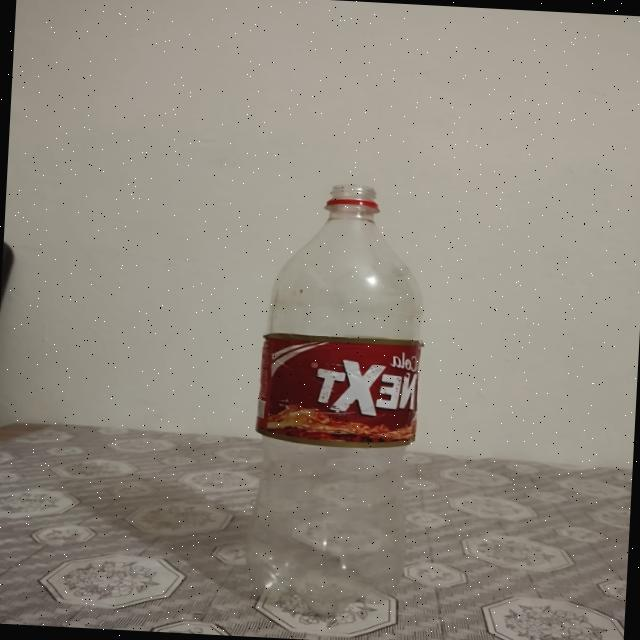bottle: (249, 174, 427, 600)
label: (245, 326, 420, 450)
